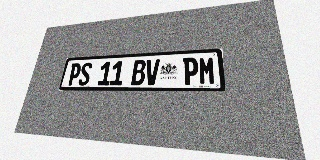1: (97, 61, 113, 85), (109, 61, 125, 85)
B: (131, 60, 146, 85)
M: (199, 56, 216, 85)
P: (183, 57, 199, 85), (67, 63, 82, 86)
S: (77, 62, 93, 86)
V: (144, 59, 160, 85)
